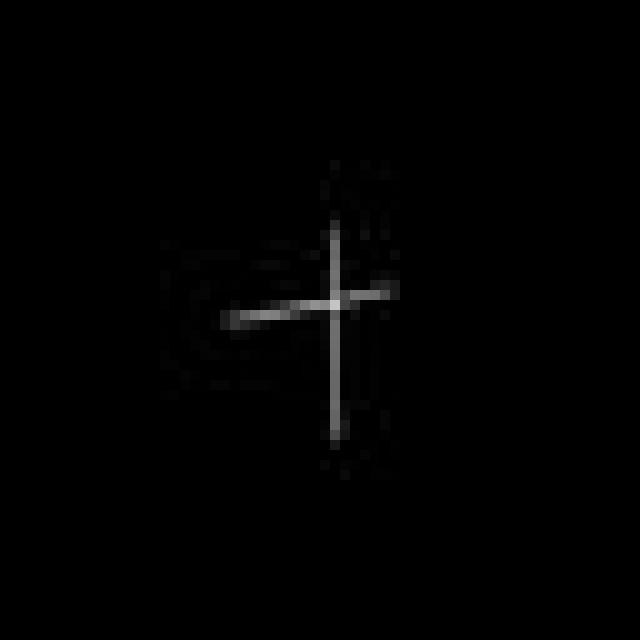10 -ten-: (216, 222, 400, 452)
